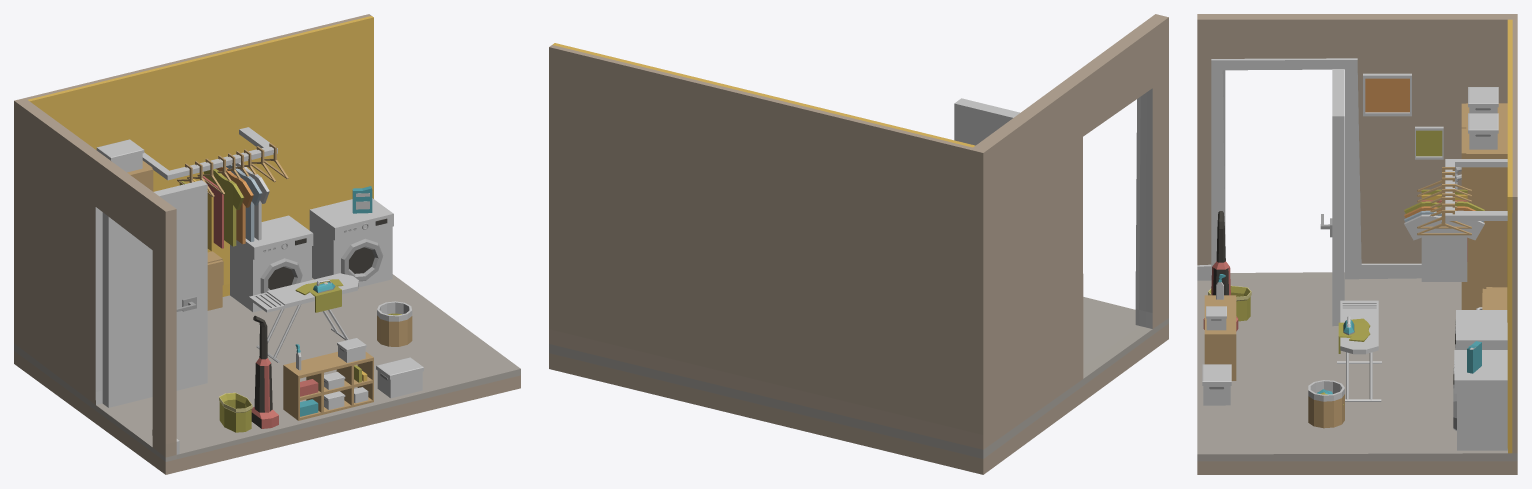
File: Washing room.fbx
The picture shows the model from 3 angles, left to right: view 1: azimuth 30°, elevation 25°; view 2: azimuth 150°, elevation 25°; view 3: azimuth 270°, elevation 25°; orthographic projection. The views are drawn at different scales.
Visible parts, largest first — view 1: Room, Door, Wash 2, Wash, Much Things, Object 3, Object 2, Box 1, Dirt Clothes, Window.003, Shirt 5.001, Trash (+10 smaller); view 2: Room, Door; view 3: Room, Closet, Wash 2, Door, Shirt 2.001, Room.004, Object 3, Wash, Much Things, Dirt Clothes, Window.003, Box 1 (+12 smaller).
Part boxes in pixels (<box>): Room: <box>14,14,520,474</box>; Door: <box>102,180,207,407</box>; Wash 2: <box>309,198,393,287</box>; Wash: <box>230,215,313,312</box>; Much Things: <box>283,351,373,420</box>; Object 3: <box>249,273,358,362</box>; Object 2: <box>251,315,278,428</box>; Box 1: <box>376,357,423,398</box>; Dirt Clothes: <box>377,301,412,346</box>; Window.003: <box>142,127,277,180</box>; Shirt 5.001: <box>204,155,243,246</box>; Trash: <box>219,392,252,432</box>; Room: <box>549,14,1168,474</box>; Door: <box>954,98,1020,145</box>; Room: <box>1197,14,1517,474</box>; Closet: <box>1455,103,1507,309</box>; Wash 2: <box>1453,350,1507,450</box>; Door: <box>1320,69,1344,326</box>; Shirt 2.001: <box>1404,197,1484,281</box>; Room.004: <box>1363,73,1411,116</box>; Object 3: <box>1337,300,1381,401</box>; Wash: <box>1455,310,1507,349</box>; Much Things: <box>1204,295,1236,380</box>; Dirt Clothes: <box>1308,380,1344,428</box>; Window.003: <box>1445,159,1507,220</box>; Box 1: <box>1202,364,1231,405</box>.
Bounding box in the file's own units: 281 × 199 × 208.
